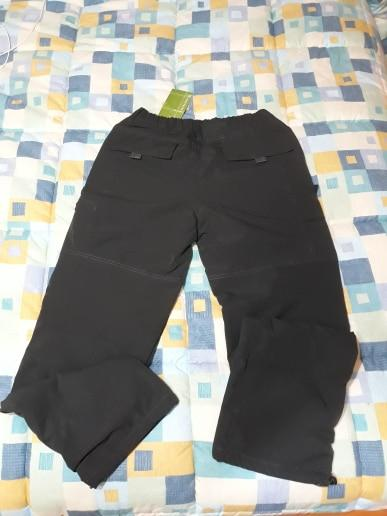pants: (32, 110, 340, 482)
